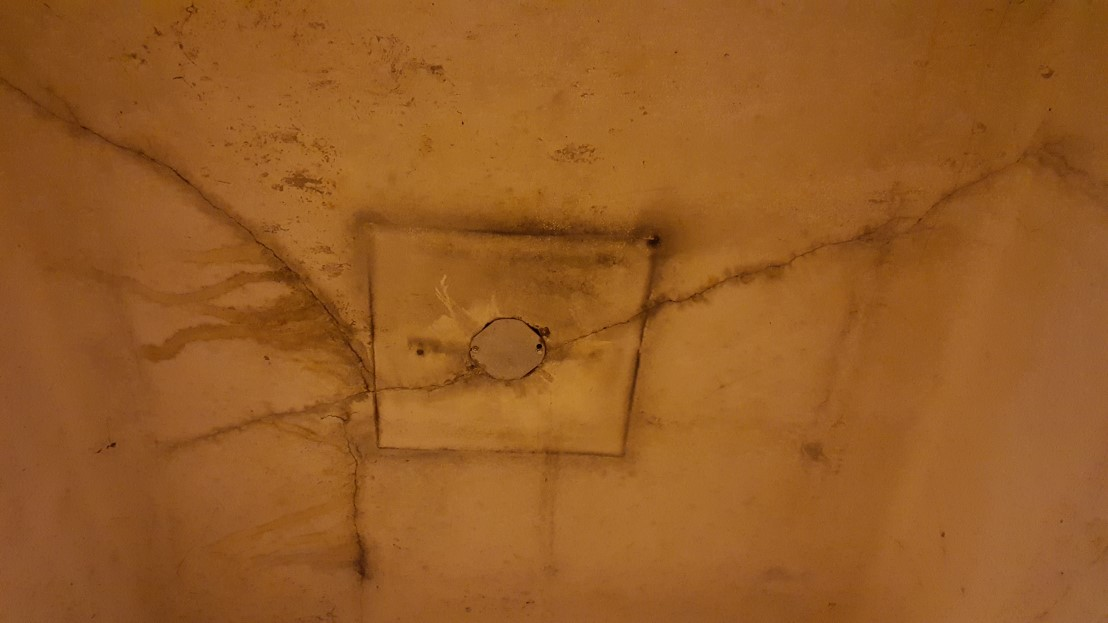Crack: (539, 137, 1108, 362), (0, 73, 374, 386), (162, 375, 384, 461), (318, 383, 385, 623), (344, 355, 496, 410), (167, 0, 235, 104)
